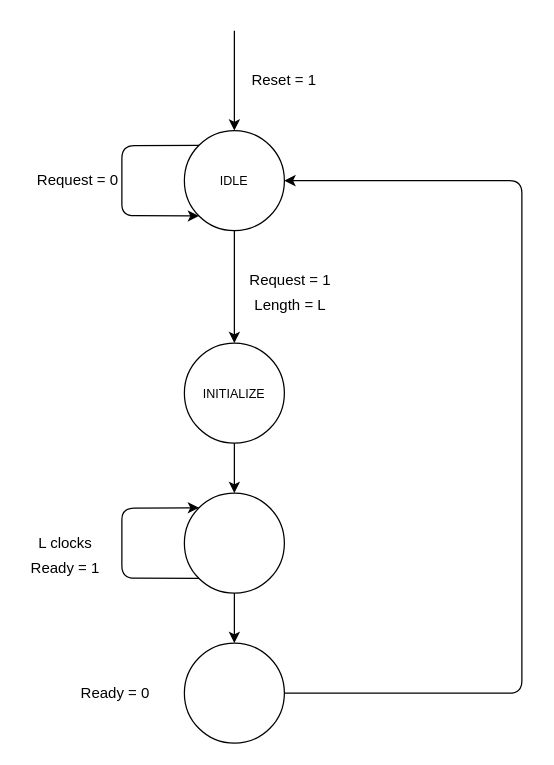
Some shapes in this 554 by 765 pixel diagram are drawn without their labels. The centre of each missing label's shape, as x and y in pixels:
"FINISH" goes at (x=233, y=692).
"SCRAMBLING" goes at (x=233, y=542).
